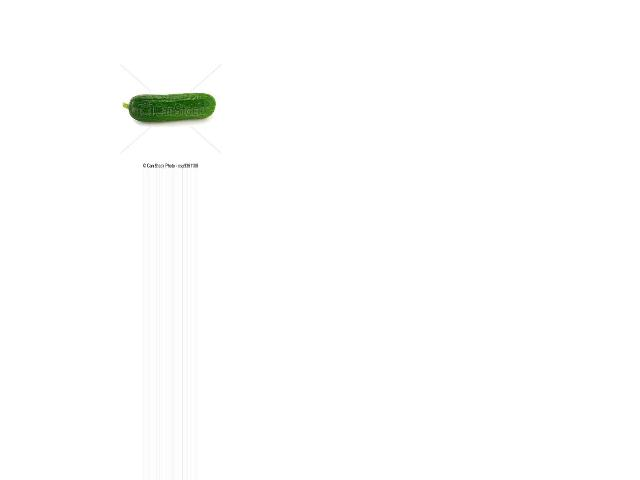cucumber: (122, 93, 216, 122)
